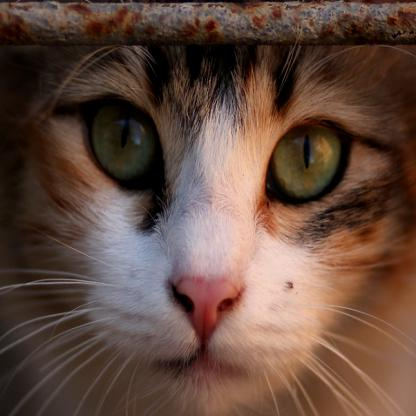cat: (8, 45, 416, 415)
